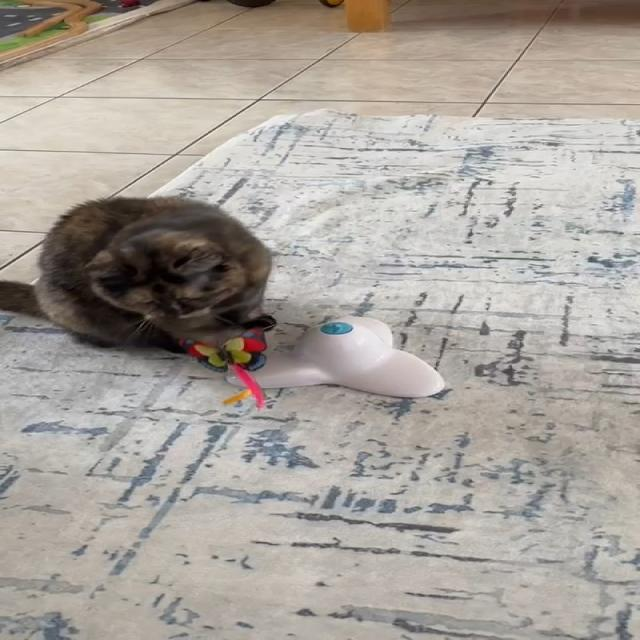authorized: (0, 194, 276, 354)
